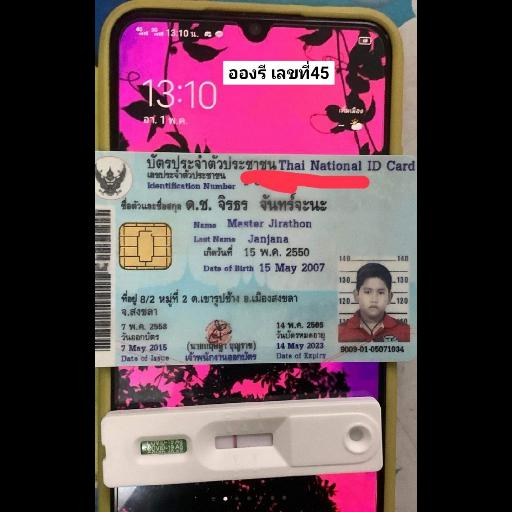Neg: (100, 402, 383, 488)
